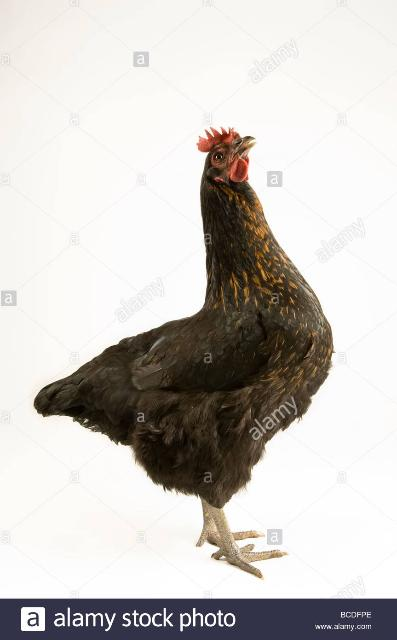Chicken: (35, 125, 334, 584)
